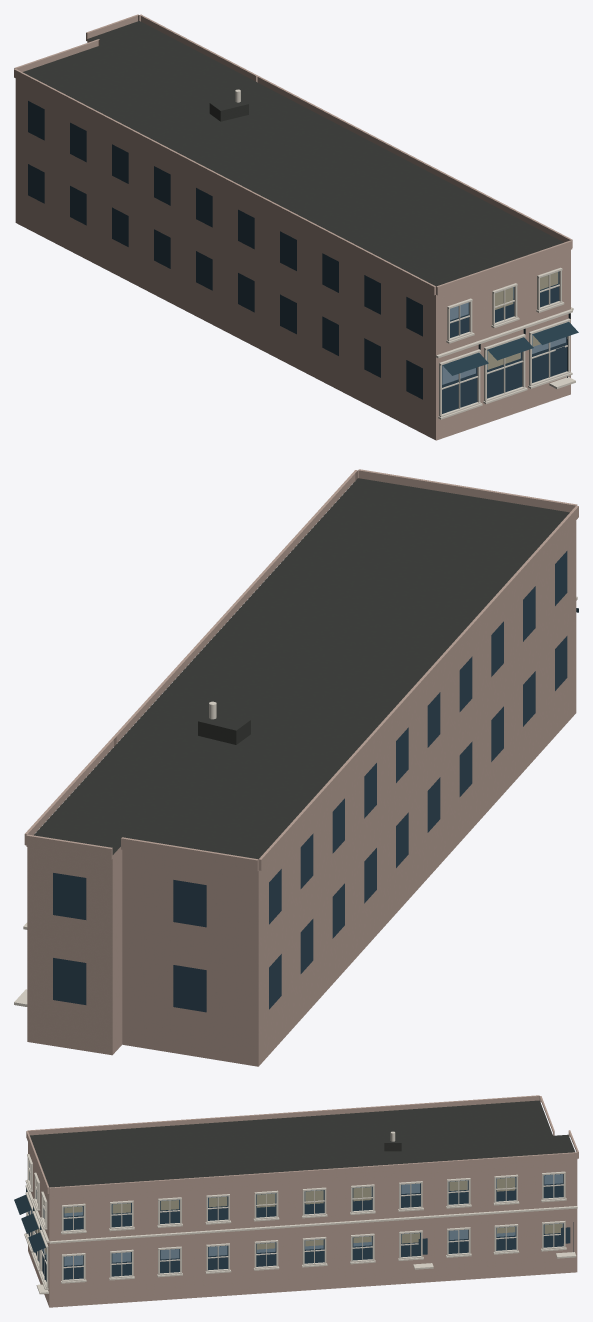
3 views of the same model, one above another, from view 1: azimuth 30°, elevation 25°; view 2: azimuth 150°, elevation 25°; view 3: azimuth 270°, elevation 25° (orthographic). The views are drawn at different scales.
Visible parts, largest first — view 1: Footprint 0 / surface 2, Footprint 0 / surface 1, Inset glazing, Facade bay volumes, Cornices and window frames, Storefronts and doors, Interior blind variation, Sky reflection panels; view 2: Footprint 0 / surface 2, Footprint 0 / surface 1, Inset glazing, Facade bay volumes; view 3: Footprint 0 / surface 2, Footprint 0 / surface 1, Cornices and window frames, Facade bay volumes, Inset glazing, Interior blind variation, Sky reflection panels, Storefronts and doors.
Boxes of the visible parts, left/top/right/bottom form: Footprint 0 / surface 2: left=15, top=39, right=570, bottom=440; Footprint 0 / surface 1: left=22, top=21, right=563, bottom=286; Inset glazing: left=28, top=101, right=567, bottom=413; Facade bay volumes: left=14, top=14, right=572, bottom=295; Cornices and window frames: left=436, top=267, right=575, bottom=419; Storefronts and doors: left=442, top=313, right=578, bottom=377; Interior blind variation: left=487, top=272, right=558, bottom=369; Sky reflection panels: left=442, top=287, right=565, bottom=384; Footprint 0 / surface 2: left=27, top=520, right=576, bottom=1066; Footprint 0 / surface 1: left=34, top=478, right=569, bottom=859; Inset glazing: left=53, top=551, right=567, bottom=1012; Facade bay volumes: left=24, top=469, right=578, bottom=871; Footprint 0 / surface 2: left=28, top=1142, right=577, bottom=1307; Footprint 0 / surface 1: left=30, top=1100, right=575, bottom=1187; Cornices and window frames: left=24, top=1154, right=577, bottom=1294; Facade bay volumes: left=26, top=1095, right=578, bottom=1194; Inset glazing: left=28, top=1167, right=570, bottom=1281; Interior blind variation: left=35, top=1177, right=562, bottom=1253; Sky reflection panels: left=28, top=1163, right=562, bottom=1265; Storefronts and doors: left=14, top=1188, right=573, bottom=1279.
Size of the model in its own units: 15.55 by 10.28 by 39.77.
